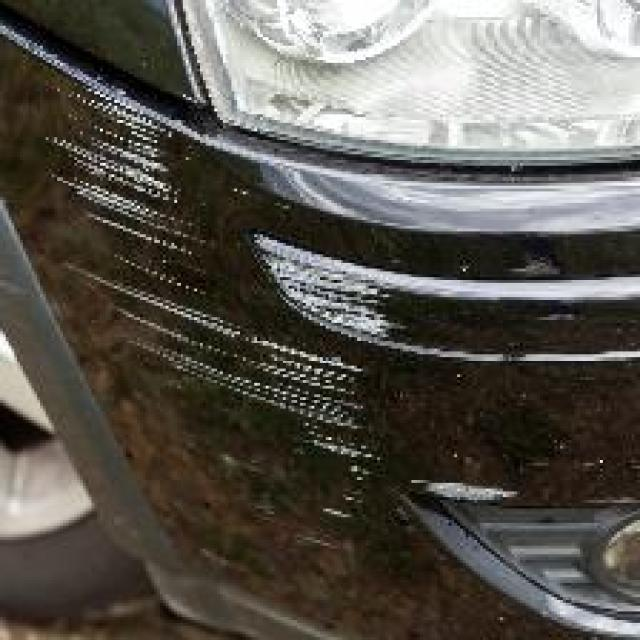bumper_scratch_minor: (46, 91, 377, 506)
